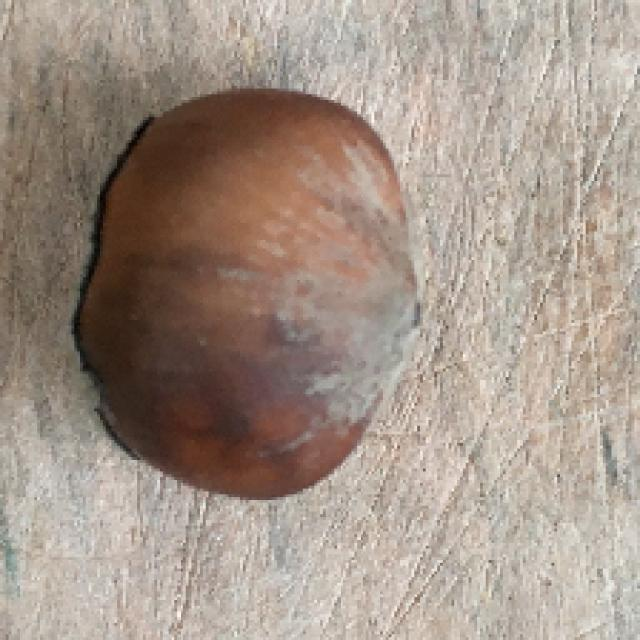damagedHazelnut: (66, 89, 423, 506)
